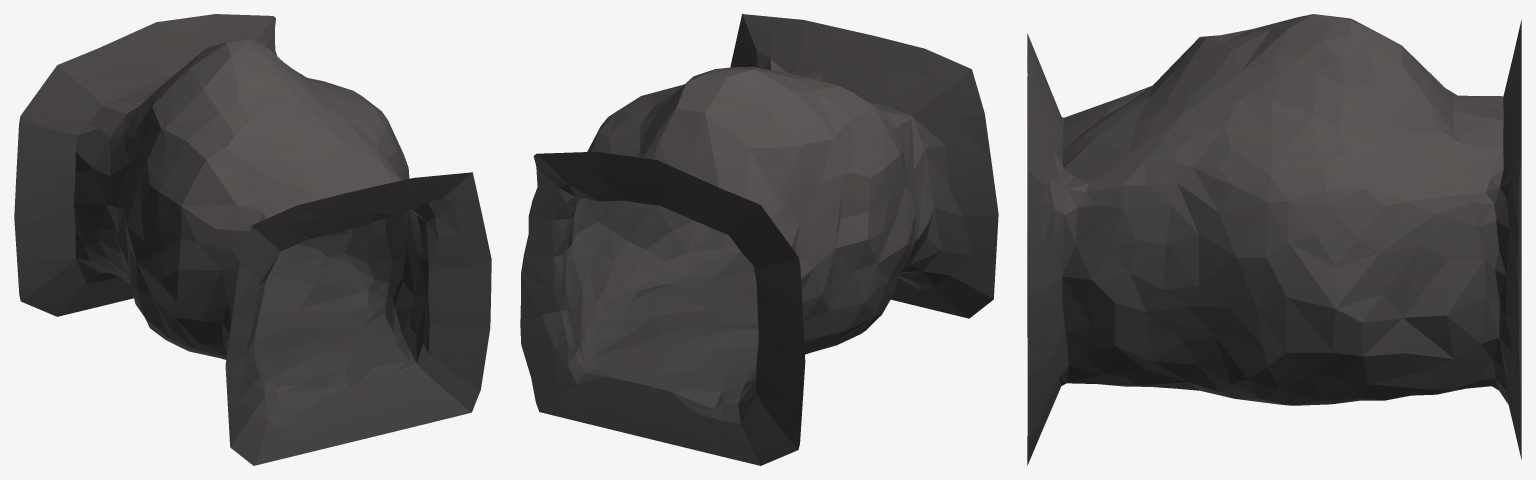
The model's file is ZLP_Cave_A_5.FBX.
3 renders of one model, left to right at view 1: azimuth 30°, elevation 25°; view 2: azimuth 150°, elevation 25°; view 3: azimuth 270°, elevation 25°, orthographic. The views are drawn at different scales.
Parts seen in each view (by area): view 1: ZLP_Cave_A_5; view 2: ZLP_Cave_A_5; view 3: ZLP_Cave_A_5.
Boxes of the visible parts, left/top/right/bottom form: ZLP_Cave_A_5: left=14, top=14, right=491, bottom=465; ZLP_Cave_A_5: left=520, top=14, right=998, bottom=465; ZLP_Cave_A_5: left=1027, top=14, right=1521, bottom=465.
Bounding box in the file's own units: 1761 × 1687 × 2006.
